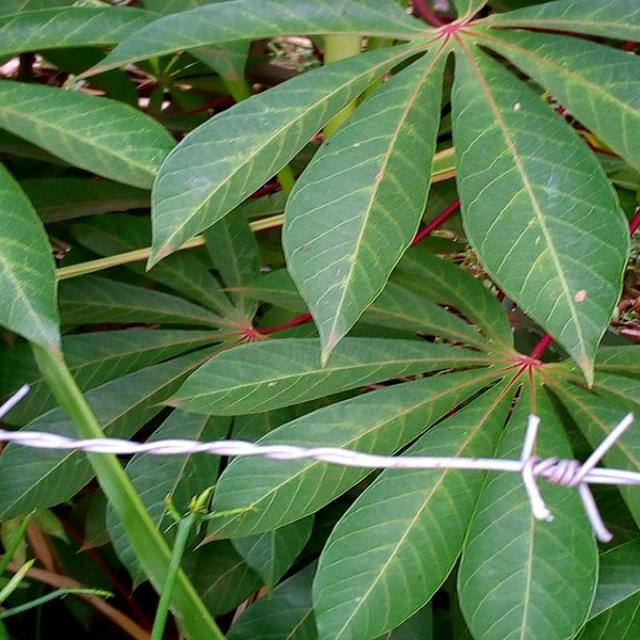cassava leaf: (1, 0, 638, 638), (144, 38, 427, 273), (449, 33, 630, 389), (280, 42, 445, 368)
